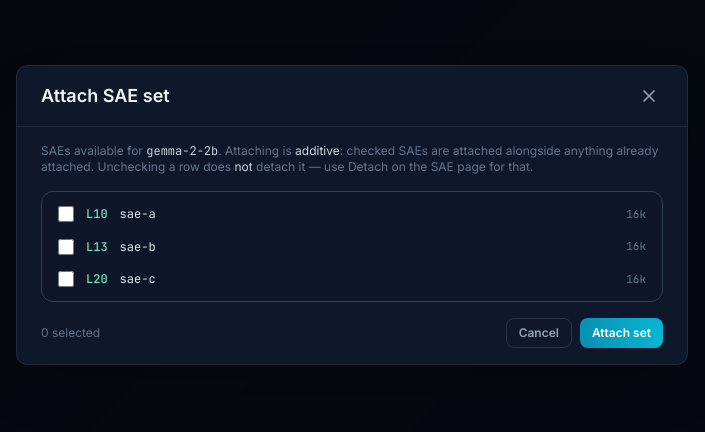
AttachSetDialog › surfaces an incompatibility rejection reason verbatim
Step 1. Click the button with test id "attach-set-submit" → [621, 333], box left=580, top=318, right=663, bottom=348
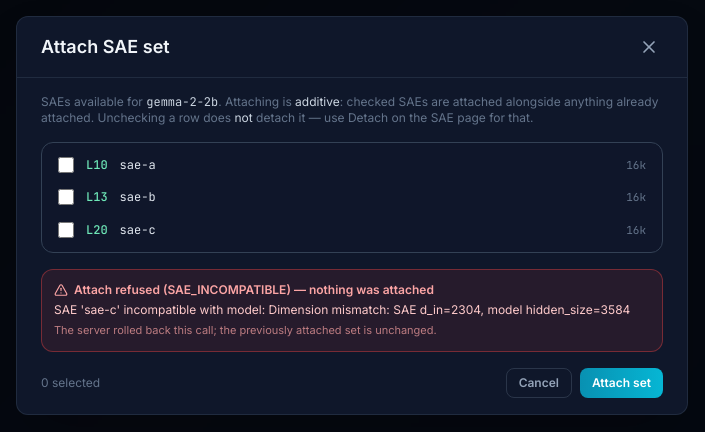
expect the element with test id "attach-rejection" shows "Dimension mismatch: SAE d_in=2304, model hidden_size=3584": met, box left=54, top=302, right=630, bottom=317
